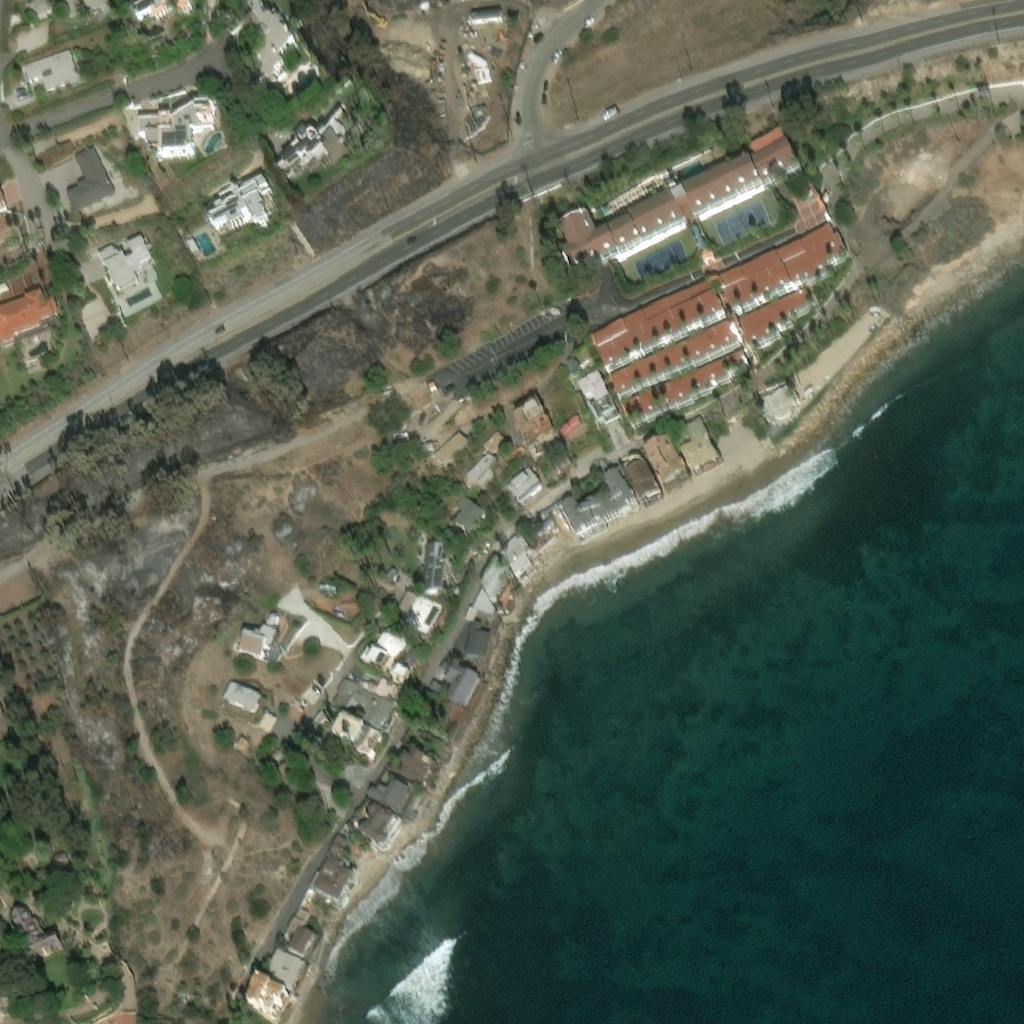0 no-damage: (554, 128, 804, 281), (589, 281, 727, 375), (610, 323, 740, 402), (623, 350, 752, 429), (275, 110, 387, 180), (557, 465, 639, 544), (327, 796, 405, 866), (240, 0, 300, 90), (325, 668, 406, 733), (136, 98, 217, 161), (717, 252, 793, 317), (775, 225, 852, 288), (511, 397, 571, 475), (206, 175, 276, 239), (431, 658, 487, 736), (0, 285, 71, 345), (738, 289, 815, 344), (62, 140, 117, 212), (7, 904, 65, 968), (357, 626, 414, 686), (366, 767, 425, 822), (99, 236, 155, 293), (329, 710, 384, 764), (308, 854, 364, 907), (640, 435, 690, 492), (23, 44, 82, 92), (391, 587, 445, 639), (680, 415, 723, 478), (275, 916, 329, 966), (576, 371, 622, 429), (387, 741, 440, 790), (292, 888, 346, 936), (244, 974, 296, 1023), (260, 946, 312, 994), (523, 501, 568, 552), (311, 581, 358, 619), (479, 553, 512, 606), (456, 623, 492, 670), (237, 626, 279, 666), (625, 462, 662, 506), (219, 680, 262, 717), (432, 430, 470, 469), (452, 495, 487, 537), (504, 531, 532, 582), (503, 467, 541, 504), (459, 454, 497, 490), (419, 541, 444, 595), (62, 0, 116, 25), (131, 0, 196, 20), (309, 699, 342, 734), (36, 135, 73, 166), (268, 745, 297, 784), (463, 586, 494, 622), (558, 411, 589, 444), (480, 426, 507, 454), (27, 0, 58, 19), (467, 10, 503, 26), (10, 80, 30, 101), (257, 710, 276, 732), (427, 678, 445, 695), (382, 562, 398, 580), (0, 1001, 12, 1023), (566, 359, 581, 376), (264, 610, 278, 627), (50, 848, 67, 862), (111, 1015, 137, 1023), (235, 733, 247, 745)
